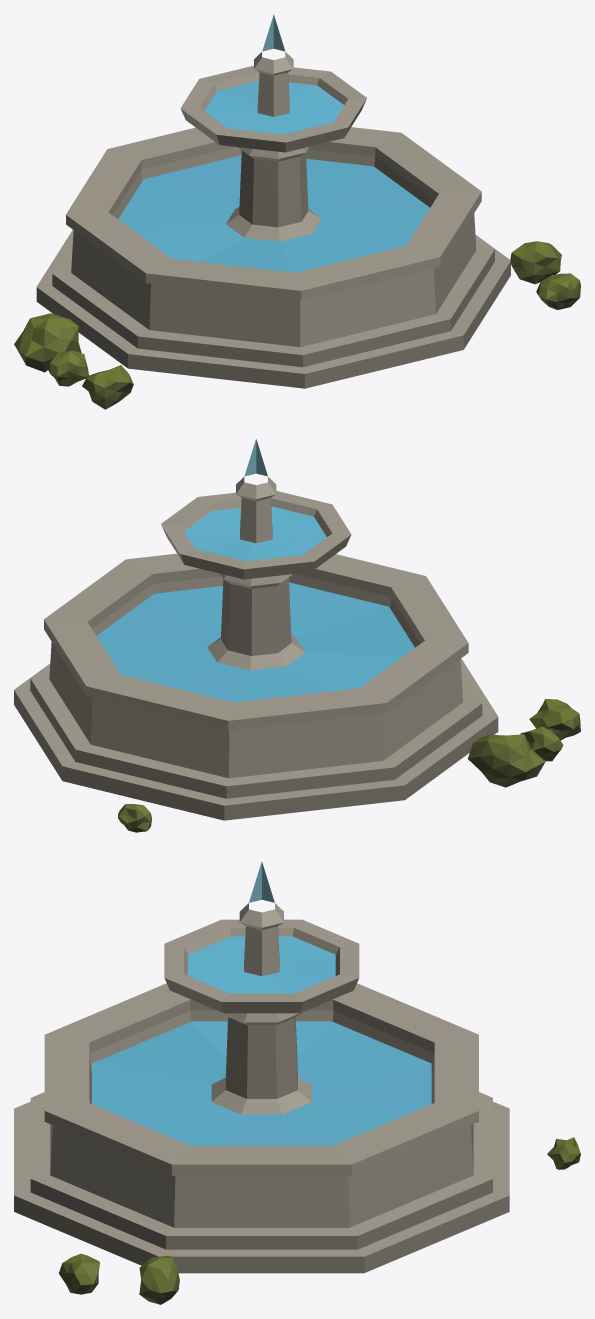
File: fountain_great.glb
3 renders of one model, top to bottom at view 1: azimuth 30°, elevation 25°; view 2: azimuth 150°, elevation 25°; view 3: azimuth 270°, elevation 25°, orthographic. The views are drawn at different scales.
Visible parts, largest first — view 1: fountain_great_solid, fountain_great_crystal; view 2: fountain_great_solid, fountain_great_crystal; view 3: fountain_great_solid, fountain_great_crystal.
Part boxes in pixels (bbox=[...]): fountain_great_solid: bbox=[14, 52, 580, 409]; fountain_great_crystal: bbox=[118, 14, 429, 272]; fountain_great_solid: bbox=[14, 477, 580, 832]; fountain_great_crystal: bbox=[96, 439, 414, 702]; fountain_great_solid: bbox=[14, 903, 580, 1304]; fountain_great_crystal: bbox=[92, 861, 431, 1145].
Bounding box in the file's own units: 4.37 × 2.39 × 3.76.
